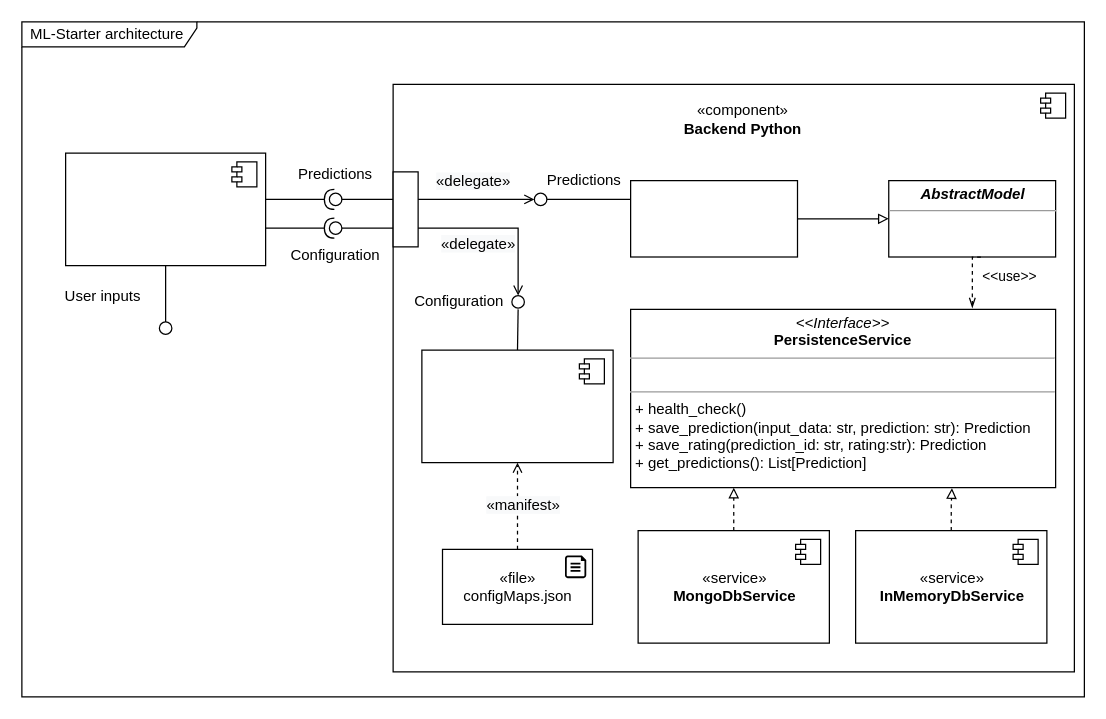
This 1106x719 diagram has some shape labels left out. The shapes that lost their labels are listed below. From the top down, each one's centre as x and y in pixels, then its label:
At point 165,209: "«component» Frontend React".
At point 713,218: "CustomModel".
At point 517,406: "«service» ConfigurationService".
